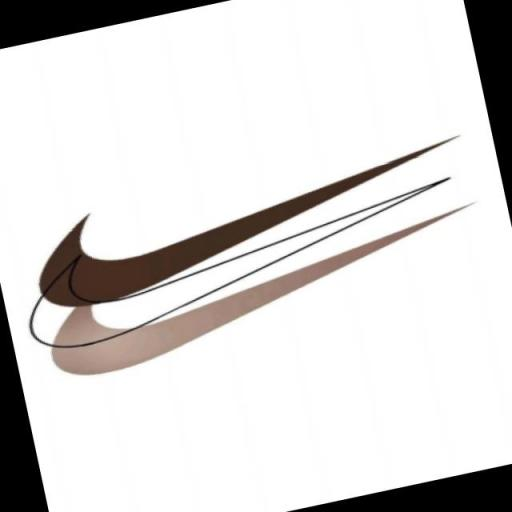Nike: (8, 126, 482, 312)
